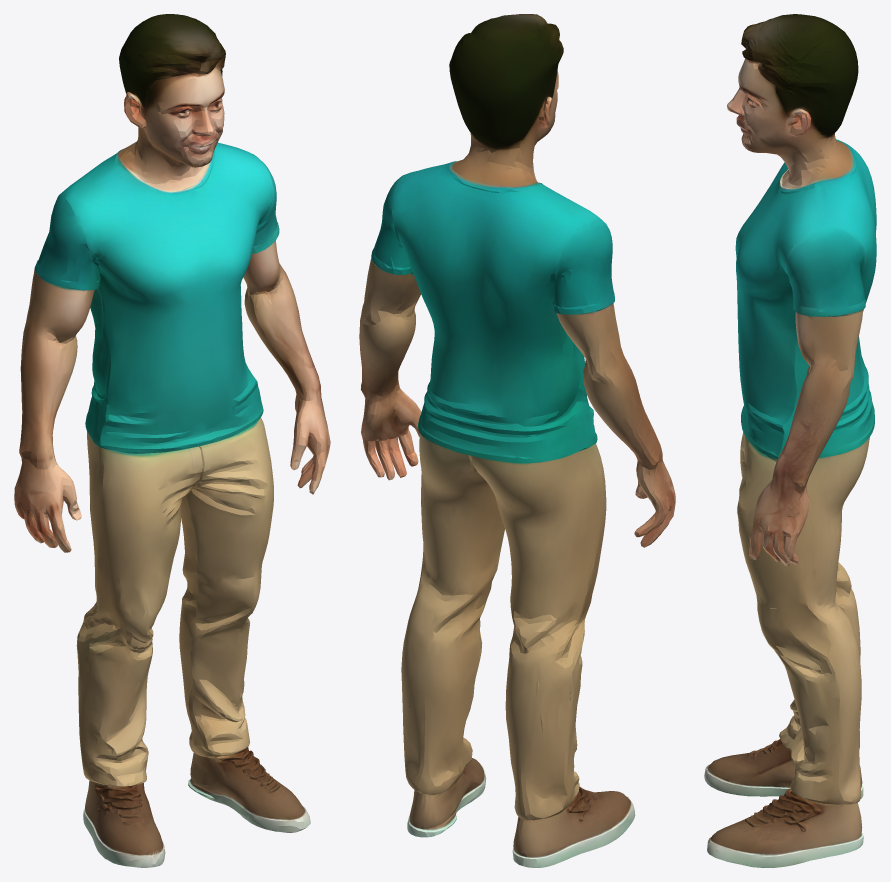
File: hyper3d-indian-man-tpose.glb
3 views of the same model, side by side, from view 1: azimuth 30°, elevation 25°; view 2: azimuth 150°, elevation 25°; view 3: azimuth 270°, elevation 25° (orthographic).
Parts seen in each view (by area): view 1: model; view 2: model; view 3: model.
Boxes of the visible parts, x1=… form: model: x1=14, y1=14, x2=330, y2=867; model: x1=359, y1=14, x2=675, y2=867; model: x1=704, y1=14, x2=876, y2=867.
Size of the model in its own units: 0.7588 by 1.9 by 0.371.
1 material, 1 textured.
